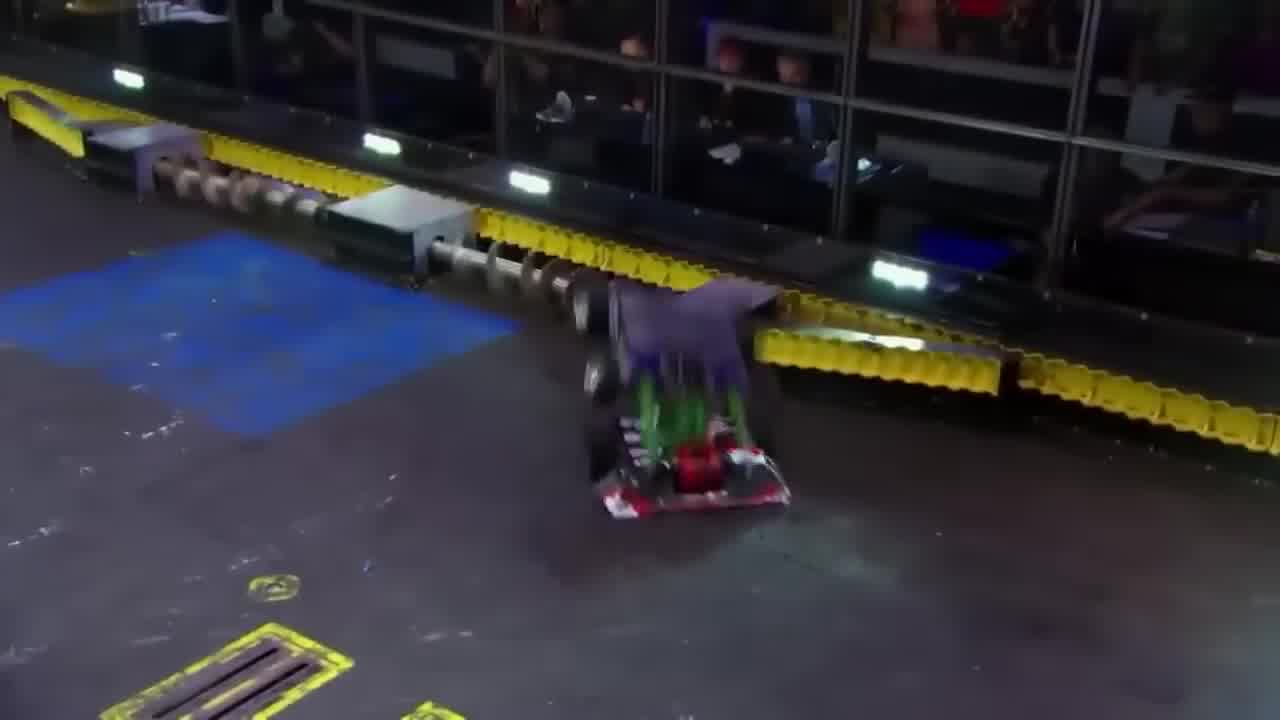combatbot: (565, 279, 788, 464), (583, 413, 792, 514)
